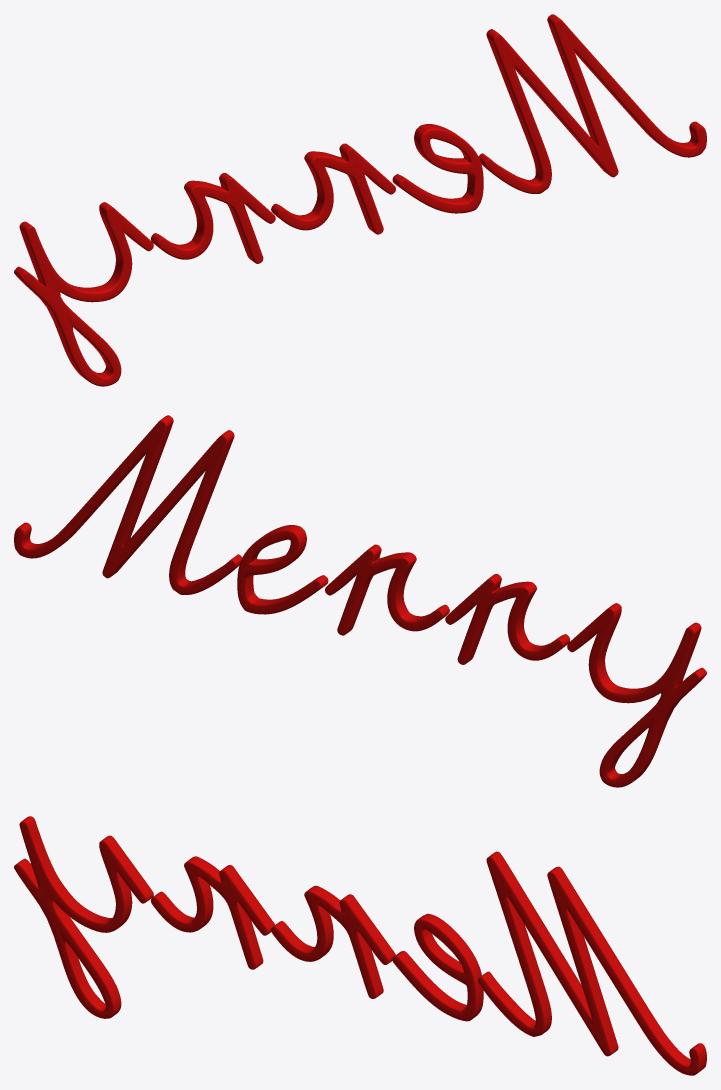
The model's file is Christmas_Red_0.obj.
The picture shows the model from 3 angles, top to bottom: view 1: azimuth 30°, elevation 25°; view 2: azimuth 150°, elevation 25°; view 3: azimuth 330°, elevation 25°; orthographic projection.
Visible parts, largest first — view 1: Christmas_Red_0; view 2: Christmas_Red_0; view 3: Christmas_Red_0.
Part boxes in pixels (box(x1,y1,x2,y2)): Christmas_Red_0: box(14, 14, 706, 386); Christmas_Red_0: box(14, 415, 706, 787); Christmas_Red_0: box(14, 816, 706, 1075).
Bounding box in the file's own units: 0.9507 × 0.34 × 0.0184.
